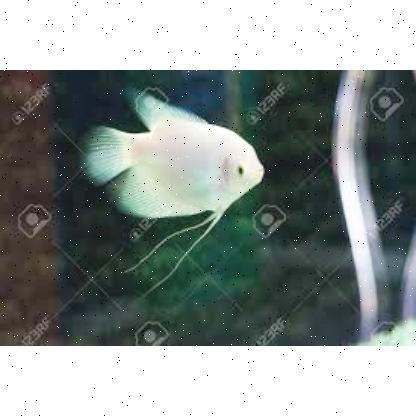gurame: (84, 94, 266, 230)
